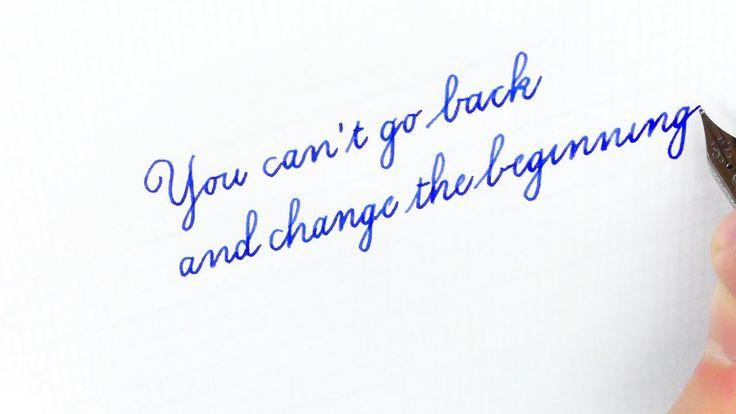text: (178, 103, 701, 279), (141, 49, 544, 233)
